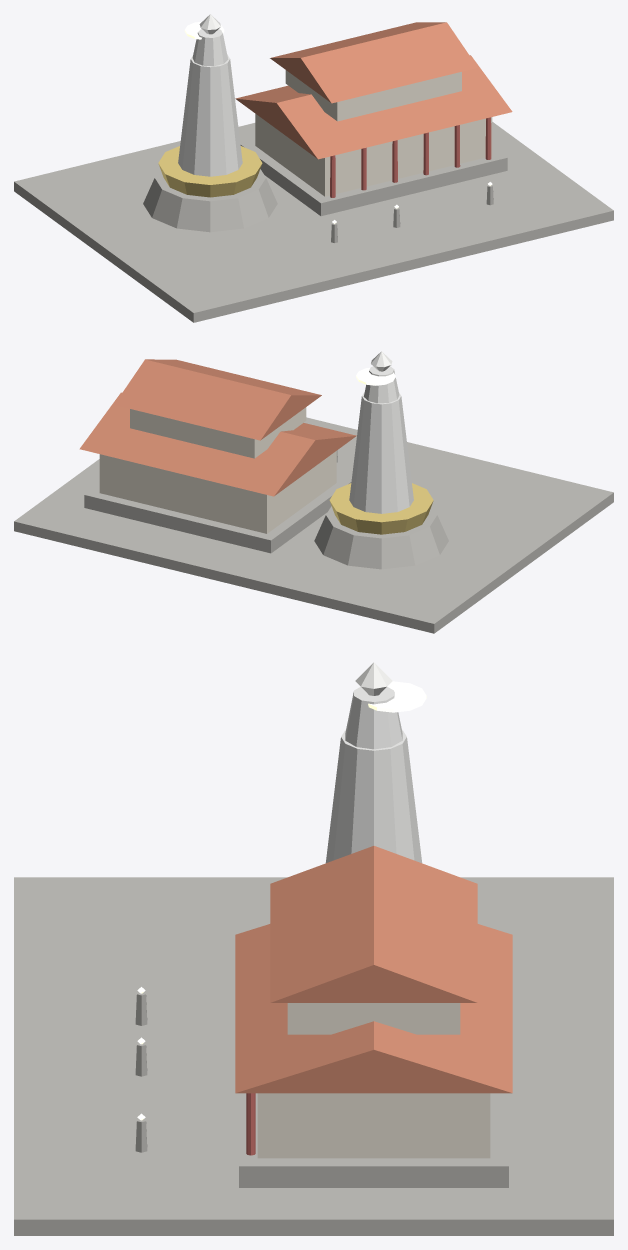
Rendered from lm_53_chua_linh_an_nam_ban_71m_guanyin_statue_and_sanctuary.glb.
3 renders of one model, top to bottom at view 1: azimuth 30°, elevation 25°; view 2: azimuth 150°, elevation 25°; view 3: azimuth 270°, elevation 25°, orthographic. The views are drawn at different scales.
Parts seen in each view (by area): view 1: lm_53_chua_linh_an_nam_ban_71m_guanyin_statue_and_sanctuary; view 2: lm_53_chua_linh_an_nam_ban_71m_guanyin_statue_and_sanctuary; view 3: lm_53_chua_linh_an_nam_ban_71m_guanyin_statue_and_sanctuary.
Part boxes in pixels (box(x1,y1,x2,y2)): lm_53_chua_linh_an_nam_ban_71m_guanyin_statue_and_sanctuary: box(14, 14, 613, 322); lm_53_chua_linh_an_nam_ban_71m_guanyin_statue_and_sanctuary: box(14, 351, 613, 633); lm_53_chua_linh_an_nam_ban_71m_guanyin_statue_and_sanctuary: box(14, 662, 613, 1235).
Bounding box in the file's own units: 54 × 24.5 × 40.
